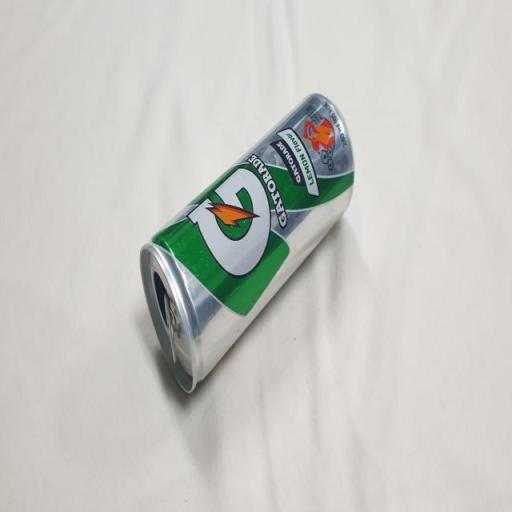metal: (122, 79, 391, 447)
